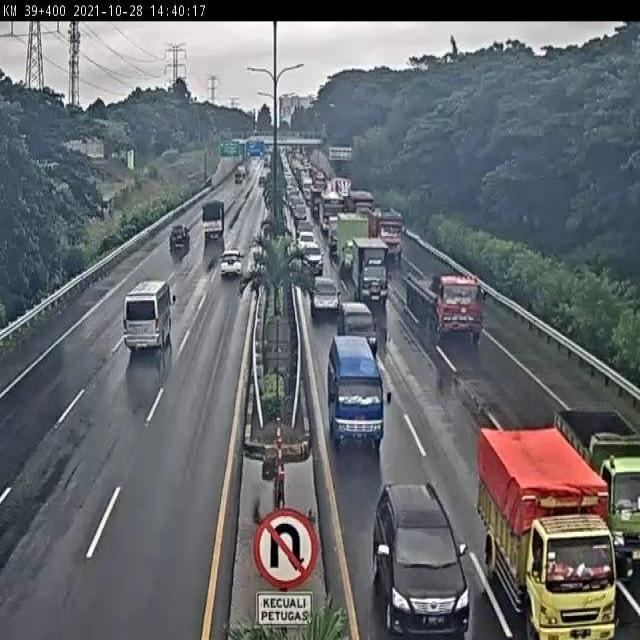bus-s-: (326, 336, 385, 455)
car: (336, 303, 380, 356), (309, 279, 342, 321), (300, 241, 325, 279), (219, 248, 243, 280), (167, 223, 191, 252)
small bus: (122, 277, 172, 352)
truck-l-: (369, 205, 403, 259)
truck-m-: (353, 239, 391, 313), (336, 212, 370, 281)
truck-xl-: (408, 271, 486, 341)
